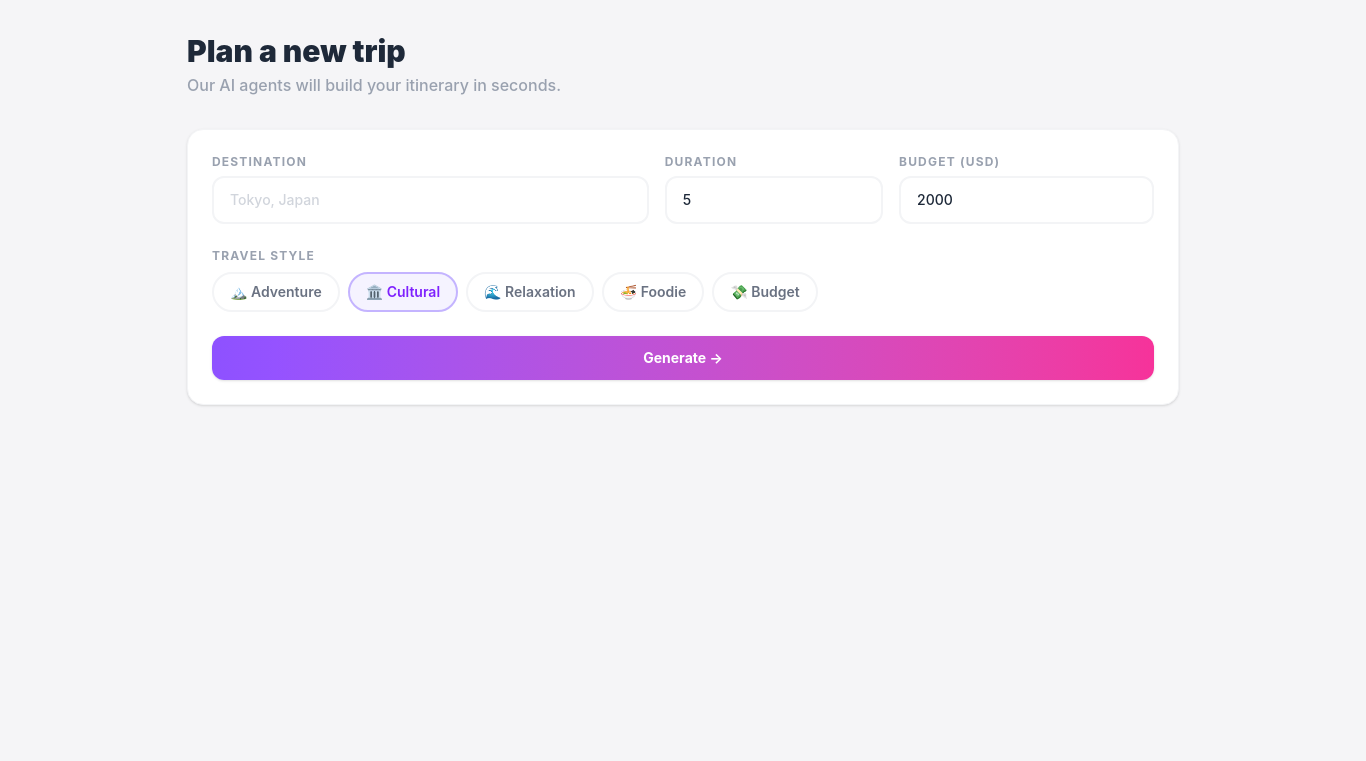
Test: TripPlanner — save trip (unauthenticated) › hides Save trip button when user is not logged in
The image size is (1366, 761).
Type "Tokyo" into the field with placeholder "Tokyo, Japan" at (430, 200), box [212, 176, 649, 224]
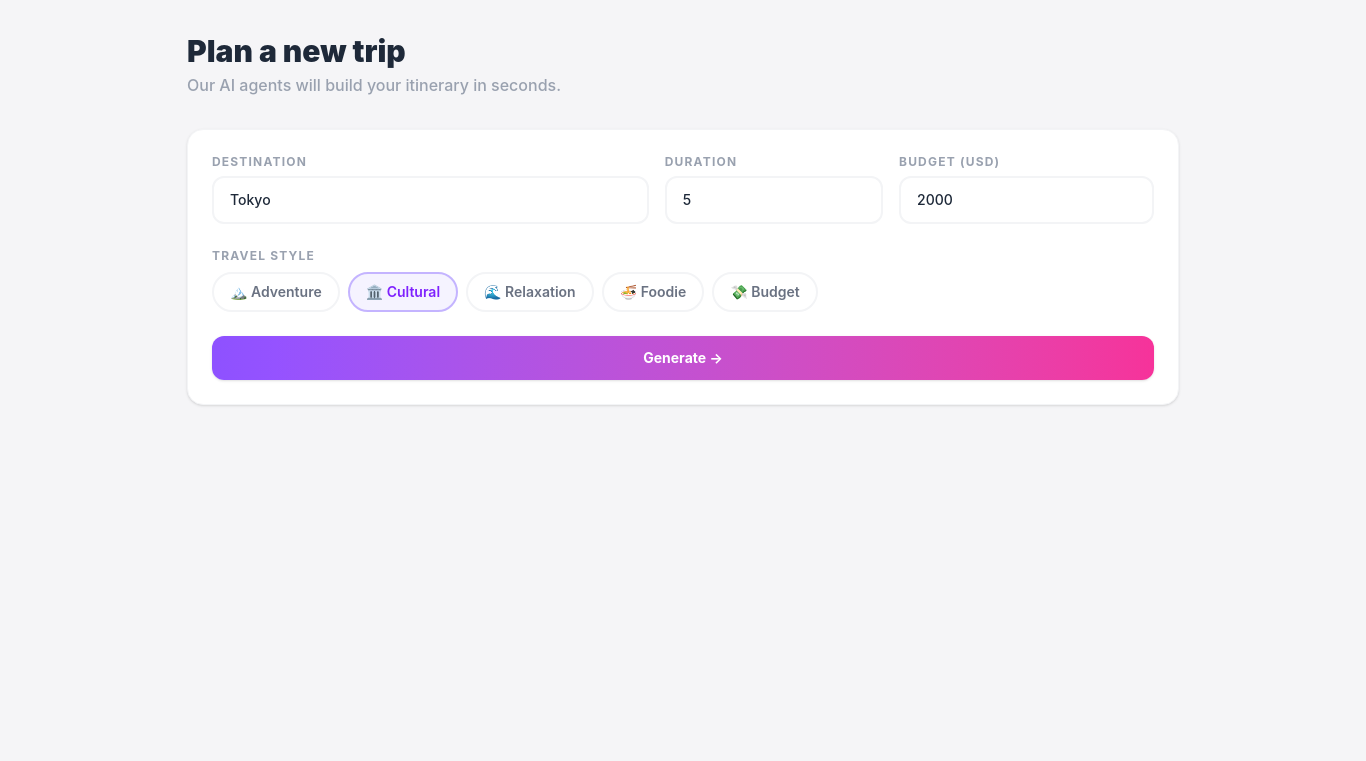
Submit the form named "Generate", box [187, 129, 1179, 405]
(page scrolled)
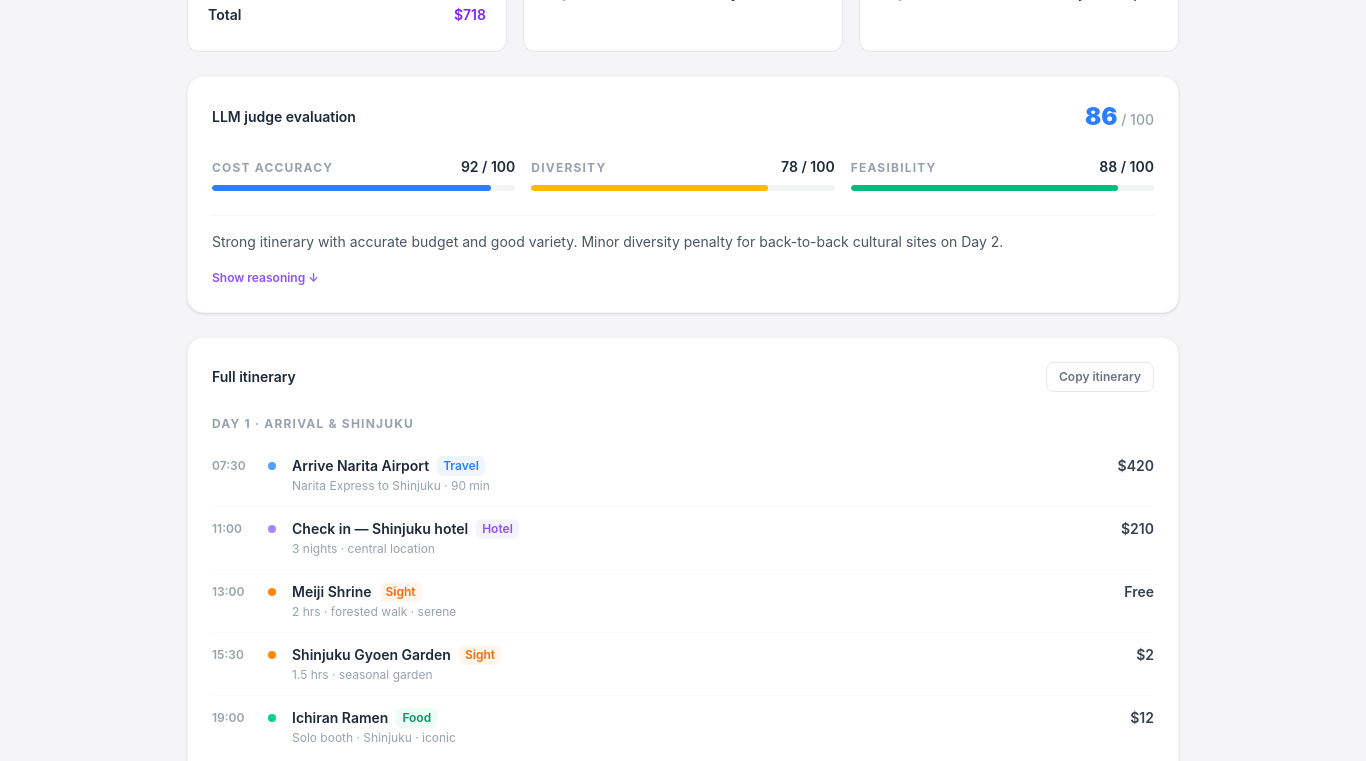
Expected: the heading "Full itinerary" is shown, [212, 367, 296, 387]
